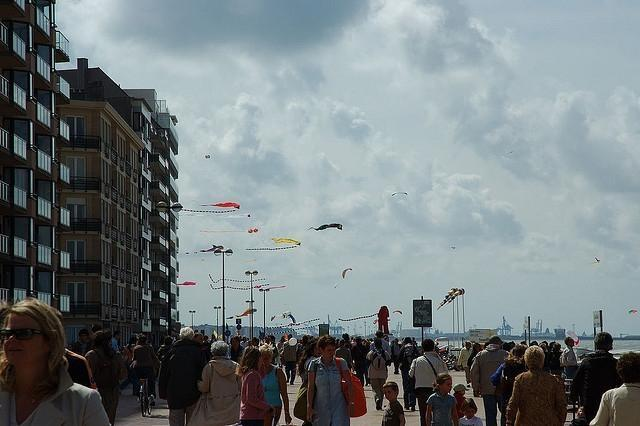bicycle: (138, 378, 154, 418)
